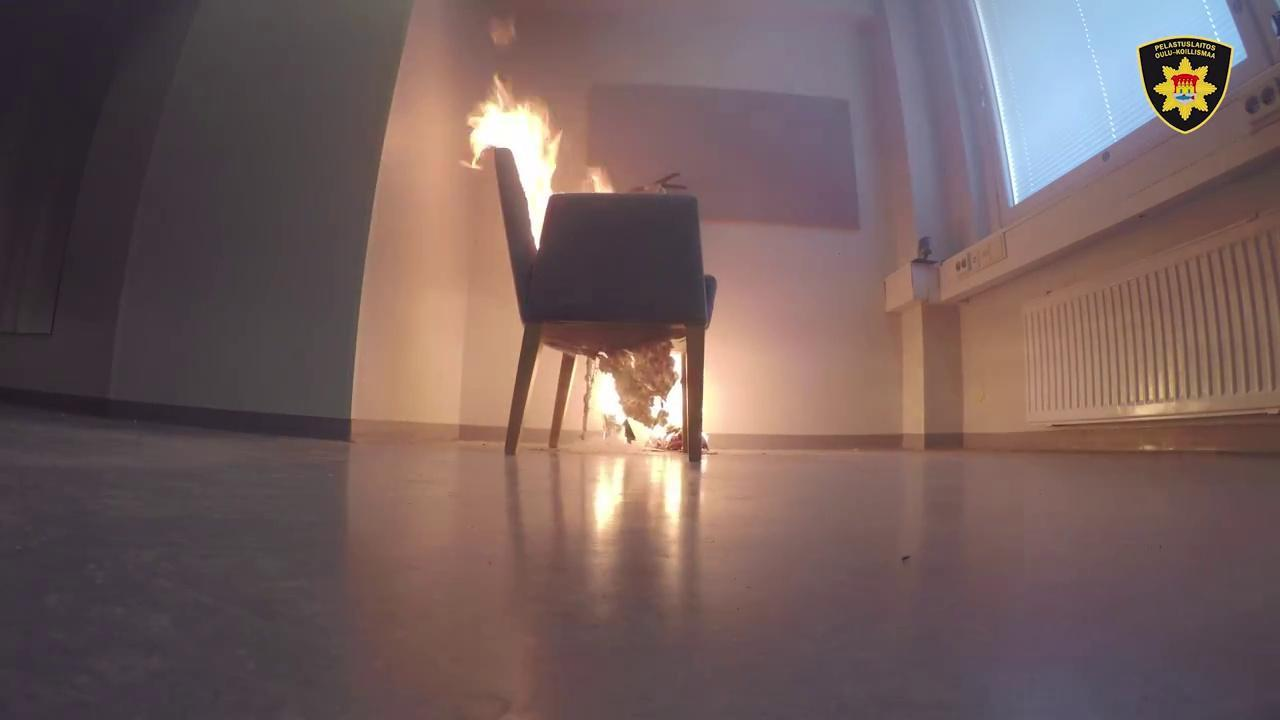fire: (560, 325, 724, 464), (457, 74, 593, 222)
